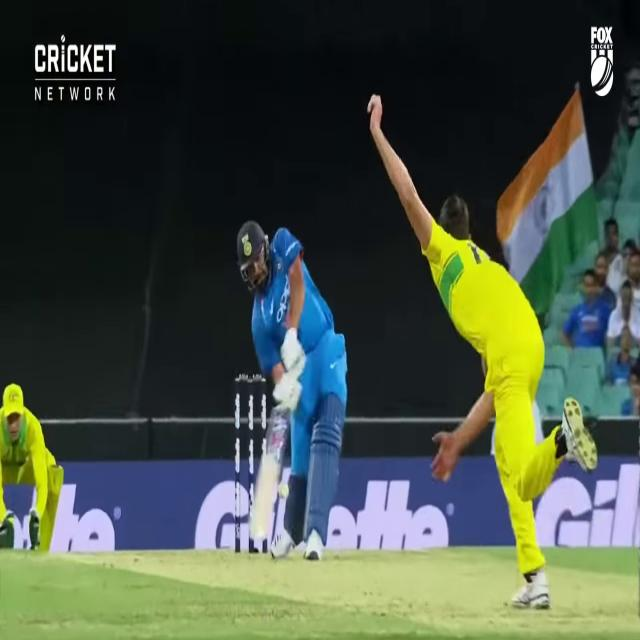ball: (278, 479, 290, 498)
stump: (235, 376, 268, 557)
